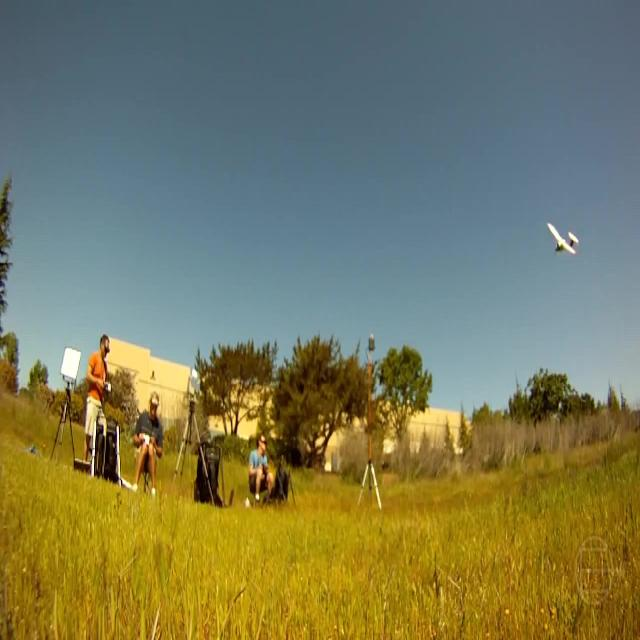iha: (546, 221, 581, 257)
